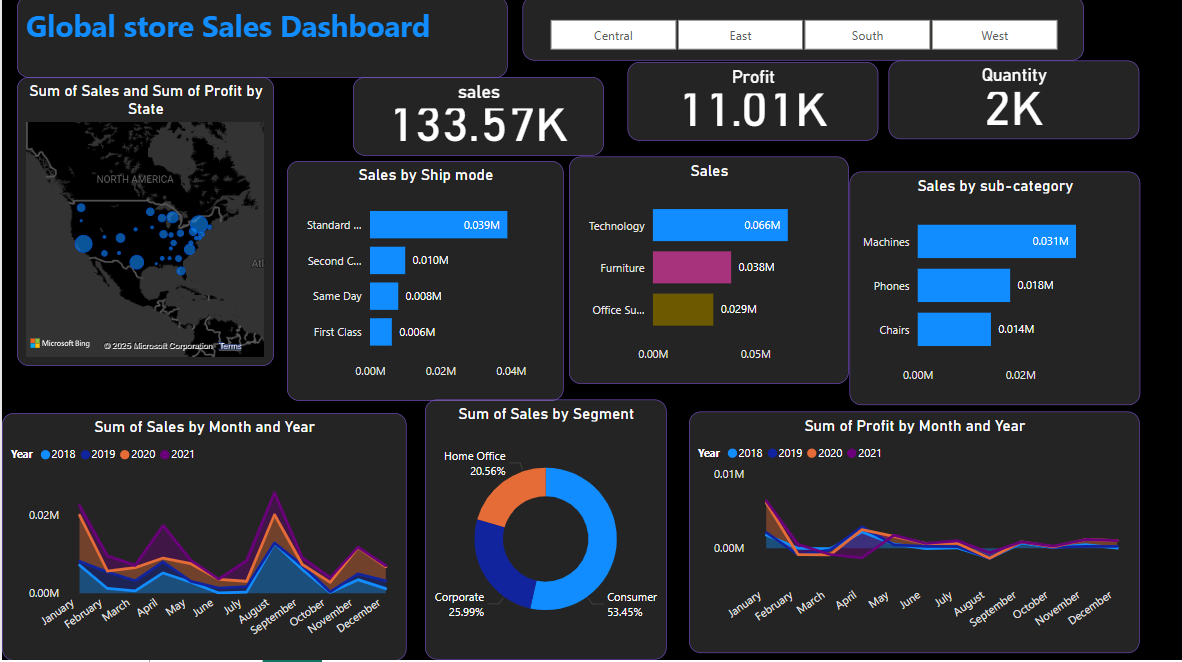

What the dashboard file says about the page in this screenshot:
{"tool":"powerbi","page":{"name":"Page 1","canvas":[1280,720],"ordinal":0},"visuals":[{"type":"clusteredBarChart","title":"Sales","fields":{"Category":["sales_and_profit_trends.Category"],"Y":["Sum(sales_and_profit_trends.Sales)"]},"box":[615,173.3,303.3,246.7],"z":0},{"type":"clusteredBarChart","title":"Sales by sub-category","fields":{"Category":["sales_and_profit_trends.Sub-Category"],"Y":["Sum(sales_and_profit_trends.Sales)"]},"box":[918.3,190,315,253.3],"z":1000},{"type":"clusteredBarChart","title":"Sales by Ship mode","fields":{"Category":["sales_and_profit_trends.Ship Mode","sales_and_profit_trends.Sub-Category"],"Y":["Sum(sales_and_profit_trends.Sales)"]},"box":[308.3,178.3,300,260],"z":2000},{"type":"stackedAreaChart","fields":{"Y":["Sum(sales_and_profit_trends.Sales)"],"Category":["sales_and_profit_trends.Order Date.Variation.Date Hierarchy.Month","sales_and_profit_trends.Order Date.Variation.Date Hierarchy.Day"],"Series":["sales_and_profit_trends.Order Date.Variation.Date Hierarchy.Year"]},"box":[0,451.7,438.3,268.3],"z":3000},{"type":"stackedAreaChart","fields":{"Category":["sales_and_profit_trends.Order Date.Variation.Date Hierarchy.Month","sales_and_profit_trends.Order Date.Variation.Date Hierarchy.Day"],"Series":["sales_and_profit_trends.Order Date.Variation.Date Hierarchy.Year"],"Y":["Sum(sales_and_profit_trends.Profit)"]},"box":[745,450,488.3,261.7],"z":4000},{"type":"map","fields":{"Category":["sales_and_profit_trends.State"],"Size":["Sum(sales_and_profit_trends.Sales)"]},"box":[16.7,88.3,278.3,313.3],"z":5000},{"type":"donutChart","fields":{"Category":["sales_and_profit_trends.Segment"],"Y":["Sum(sales_and_profit_trends.Sales)"]},"box":[458.3,438.3,261.7,281.7],"z":6000},{"type":"slicer","fields":{"Values":["sales_and_profit_trends.Region"]},"box":[564.3,0,608.6,70],"z":7000},{"type":"textbox","box":[16.7,0,531.7,88.3],"z":8000},{"type":"card","title":"sales","fields":{"Values":["Sum(sales_and_profit_trends.Sales)"]},"box":[380,88.3,271.7,85],"z":9000},{"type":"card","title":"Profit","fields":{"Values":["Sum(sales_and_profit_trends.Profit)"]},"box":[678.3,71.7,271.7,85],"z":9001},{"type":"card","title":"Quantity","fields":{"Values":["Sum(sales_and_profit_trends.Quantity)"]},"box":[961.7,70,271.7,85],"z":9002}]}

Visuals, with their boxes in screenshot pixels (x1, y1, x2, y2), scaled from the page's 1280x720 canvas onto the 1182x662 screenshot:
"Sales" clusteredBarChart: box=[568, 159, 848, 386]
"Sales by sub-category" clusteredBarChart: box=[848, 175, 1139, 408]
"Sales by Ship mode" clusteredBarChart: box=[285, 164, 562, 403]
stackedAreaChart - Sum(sales_and_profit_trends.Sales) x sales_and_profit_trends.Order Date.Variation.Date Hierarchy.Month: box=[0, 415, 405, 661]
stackedAreaChart - sales_and_profit_trends.Order Date.Variation.Date Hierarchy.Month x sales_and_profit_trends.Order Date.Variation.Date Hierarchy.Day: box=[688, 414, 1139, 654]
map - sales_and_profit_trends.State x Sum(sales_and_profit_trends.Sales): box=[15, 81, 272, 369]
donutChart - sales_and_profit_trends.Segment x Sum(sales_and_profit_trends.Sales): box=[423, 403, 665, 661]
slicer - sales_and_profit_trends.Region: box=[521, 0, 1083, 64]
textbox: box=[15, 0, 506, 81]
"sales" card: box=[351, 81, 602, 159]
"Profit" card: box=[626, 66, 877, 144]
"Quantity" card: box=[888, 64, 1139, 143]
